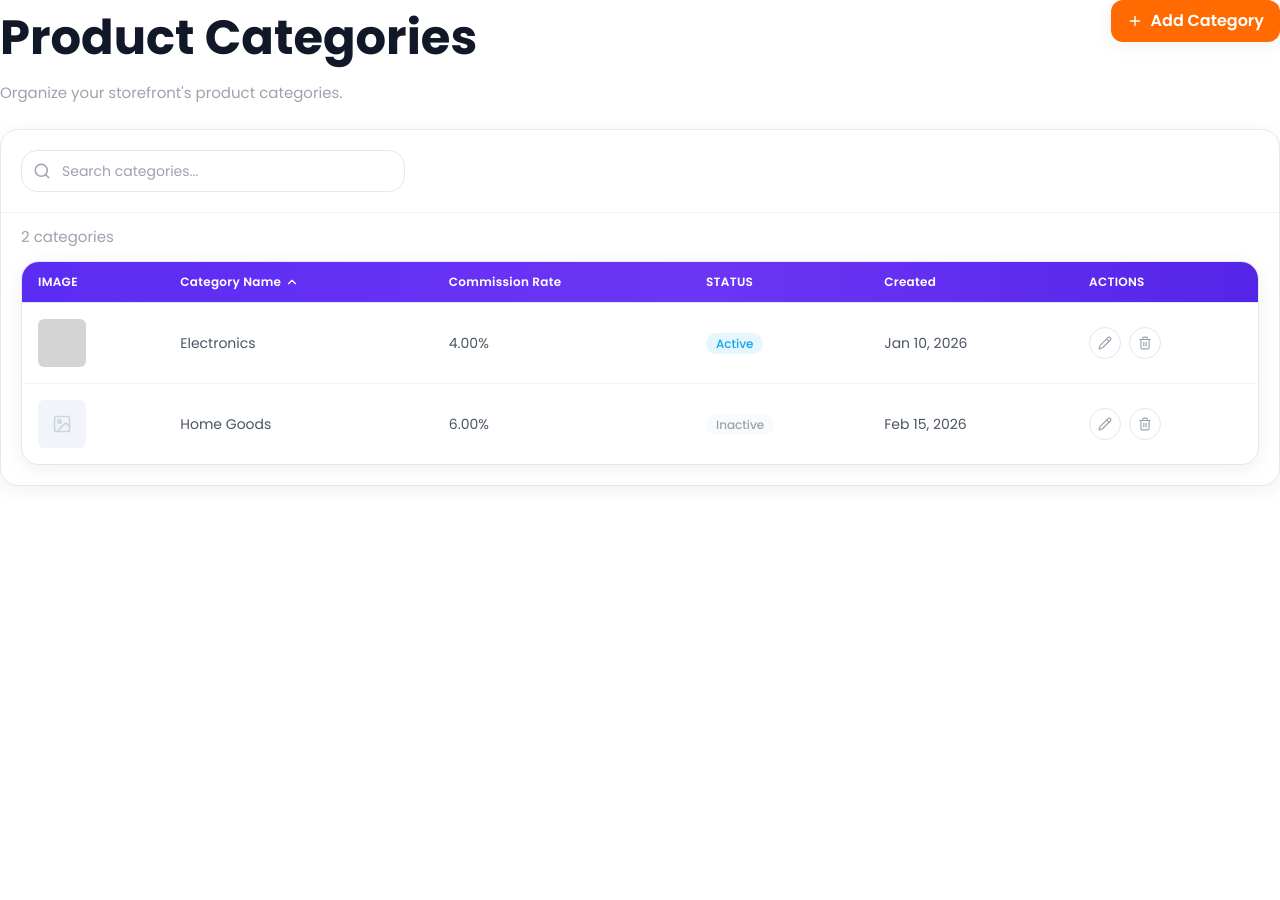
Test: CategoriesPage › deletes a category after confirmation and shows a success toast
This screenshot has width=1280, height=900.
Check: the text "Electronics" is shown, box x1=164 y1=302 x2=433 y2=383
Click the button named "Delete Electronics". click: [1145, 343]
box: x1=1129 y1=327 x2=1161 y2=359
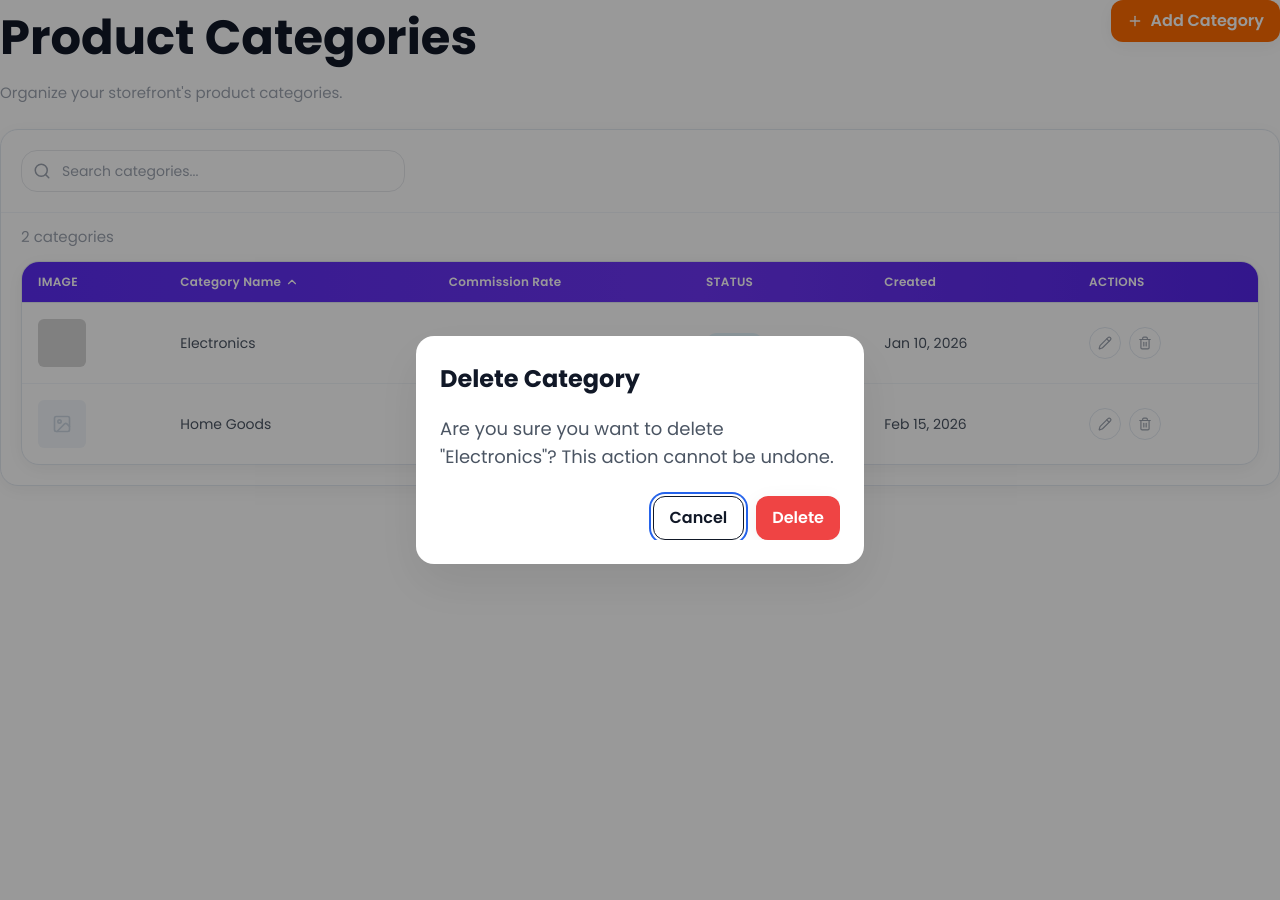
Click the button "Delete". click: [798, 518]
box: x1=756 y1=496 x2=840 y2=540
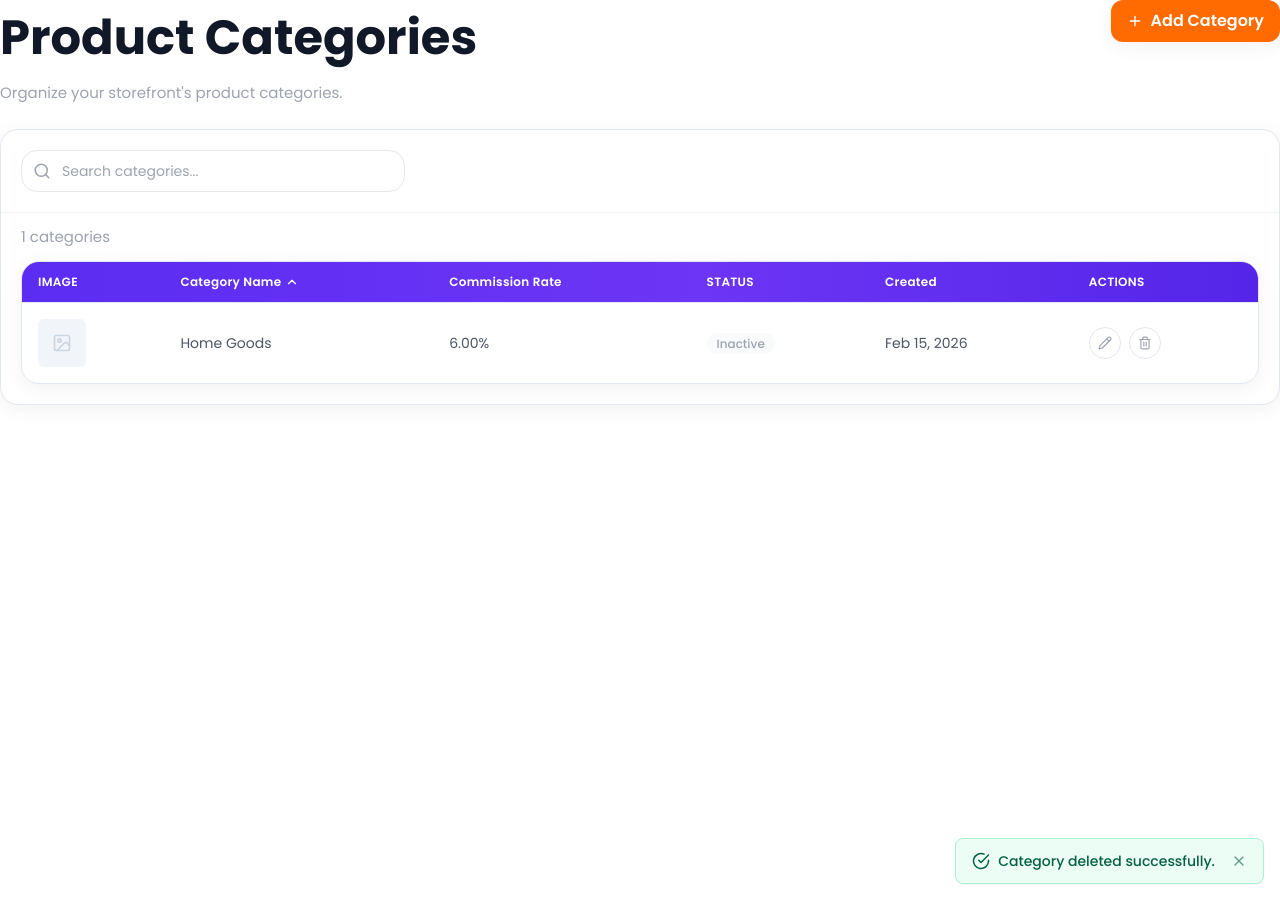
Check: the text "Electronics" is gone
Check: the text "Category deleted successfully." is shown, box x1=998 y1=851 x2=1215 y2=871
